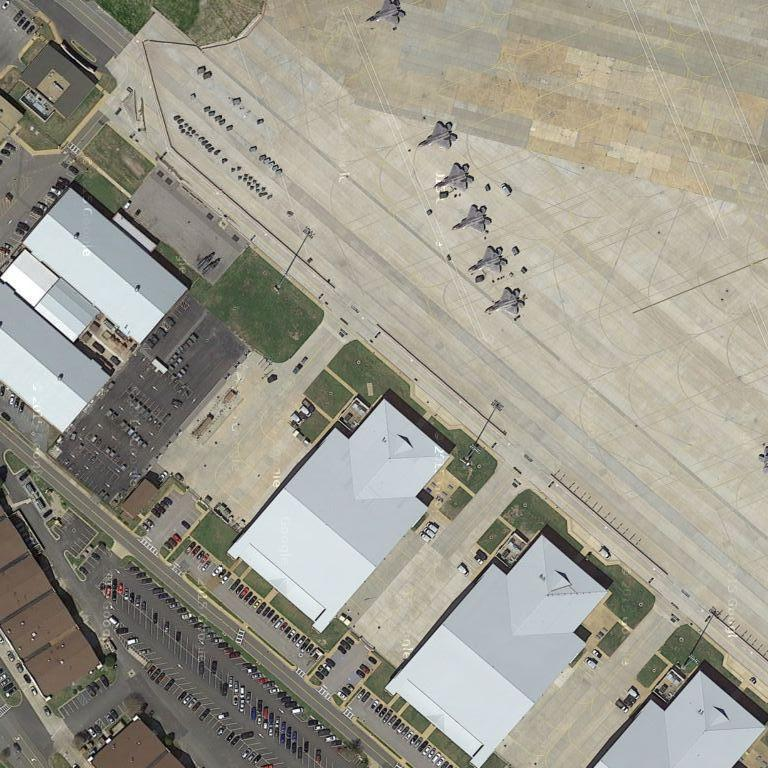F-22: (451, 198, 496, 238), (484, 282, 529, 321), (465, 242, 511, 278), (417, 118, 461, 152), (433, 159, 475, 194), (368, 1, 410, 28)
